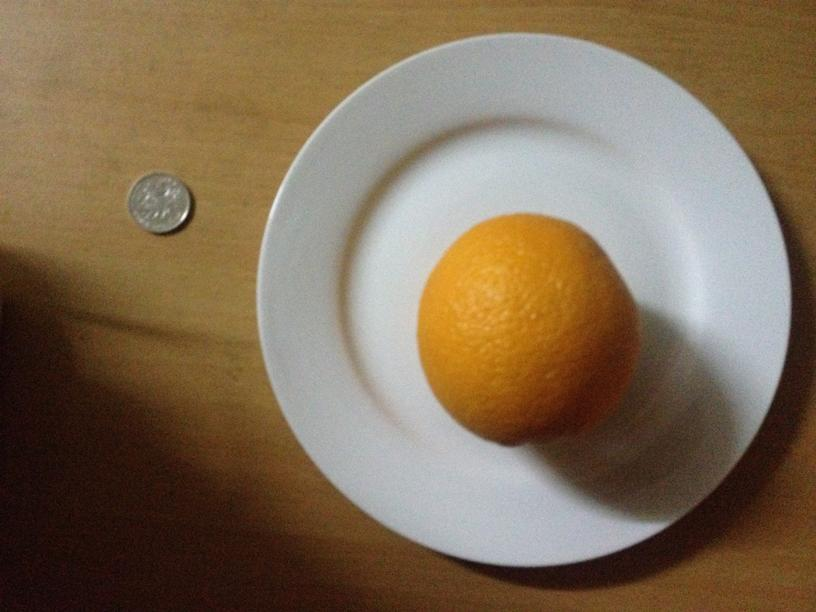coin: (129, 171, 192, 234)
orange: (414, 210, 639, 446)
